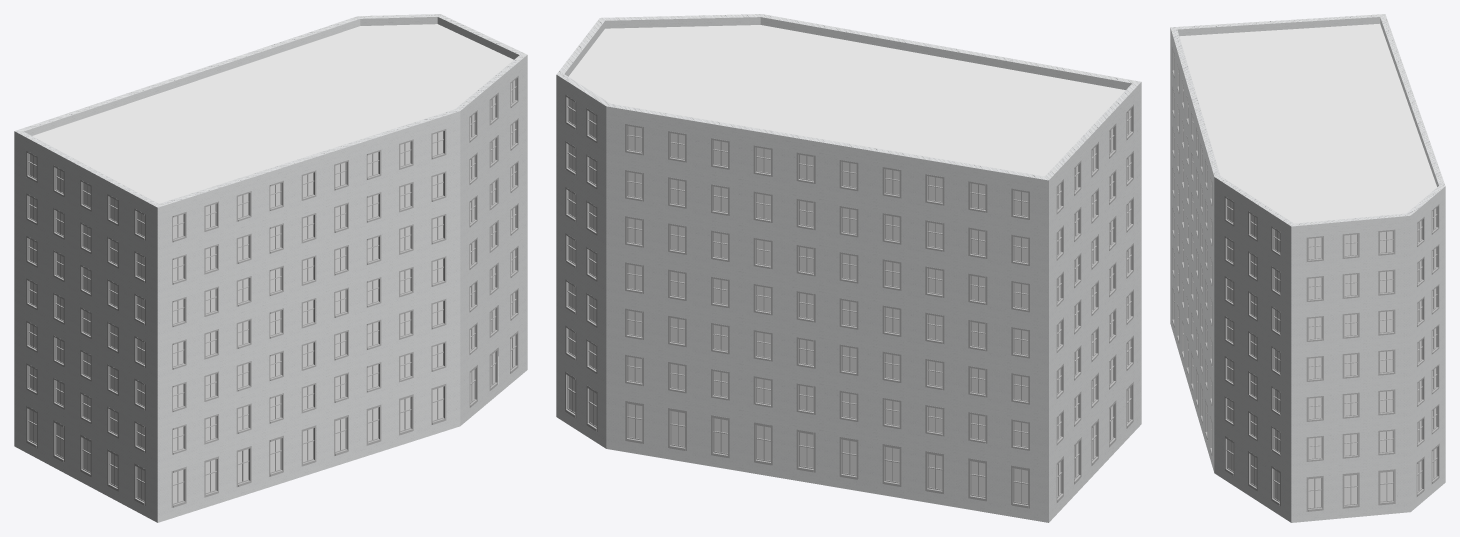
The model's file is clohbxylx03ax4p02zmo6xp2a_0.glb.
The picture shows the model from 3 angles, left to right: view 1: azimuth 30°, elevation 25°; view 2: azimuth 150°, elevation 25°; view 3: azimuth 270°, elevation 25°; orthographic projection. The views are drawn at different scales.
Visible parts, largest first — view 1: mesh_Brick, mesh_CityEnginePBRShader, mesh_Rim, mesh_Glass; view 2: mesh_Brick, mesh_CityEnginePBRShader, mesh_Rim, mesh_Glass; view 3: mesh_Brick, mesh_CityEnginePBRShader, mesh_Rim, mesh_Glass.
Part boxes in pixels (left/top/right/bottom): mesh_Brick: left=14, top=14, right=527, bottom=522; mesh_CityEnginePBRShader: left=32, top=24, right=513, bottom=203; mesh_Rim: left=26, top=76, right=518, bottom=507; mesh_Glass: left=29, top=80, right=515, bottom=503; mesh_Brick: left=556, top=14, right=1141, bottom=522; mesh_CityEnginePBRShader: left=568, top=25, right=1125, bottom=176; mesh_Rim: left=565, top=95, right=1133, bottom=508; mesh_Glass: left=568, top=99, right=1130, bottom=503; mesh_Brick: left=1170, top=14, right=1445, bottom=522; mesh_CityEnginePBRShader: left=1179, top=23, right=1436, bottom=223; mesh_Rim: left=1172, top=47, right=1439, bottom=511; mesh_Glass: left=1227, top=199, right=1436, bottom=507.
Size of the model in its own units: 40.3 by 26.2 by 22.04.
Materials: 4 (1 with a texture image).
